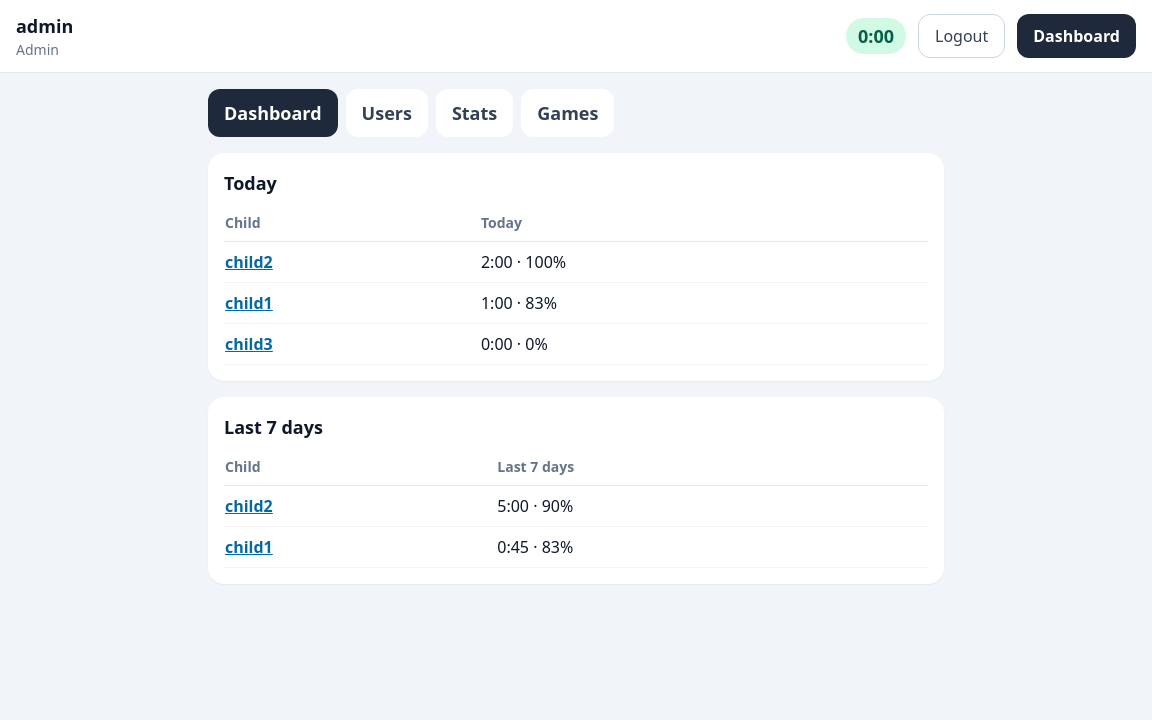
Test case: T13 — admin panel › T17 case 4: the admin stats tab shows earned time as a clock value
Click the button "Stats" at (475, 113), box 436,89 -> 513,137
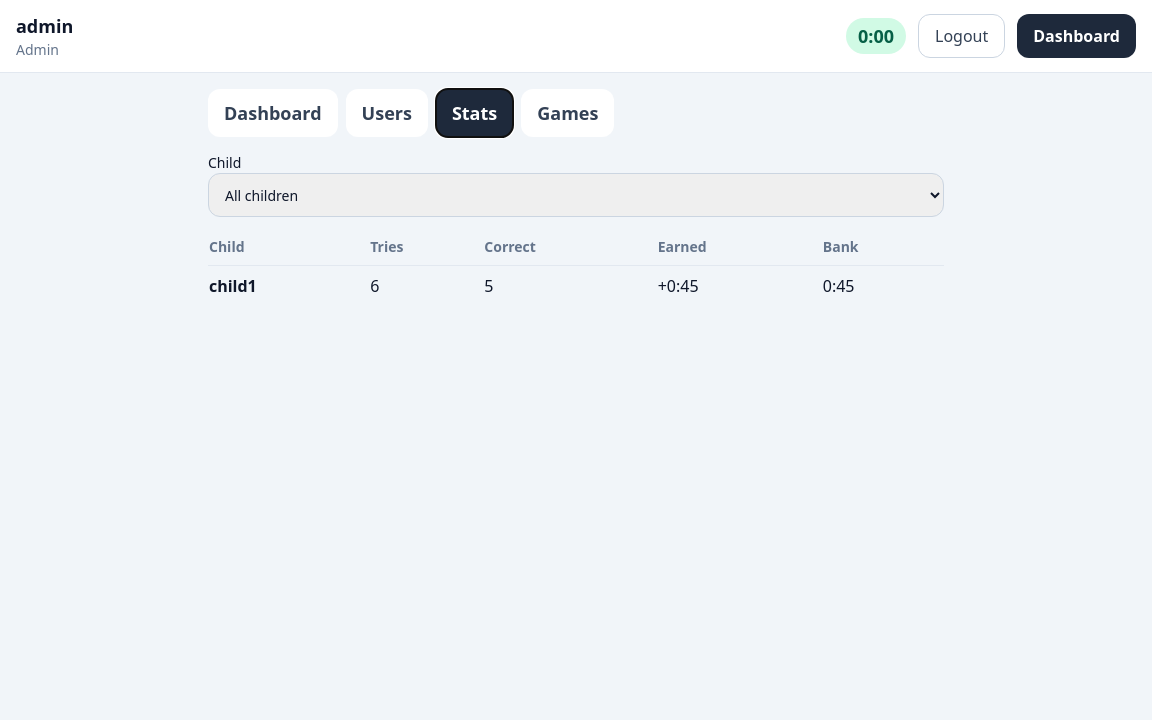
Expected: the row with test id "daily-row-child1" does not show "+45s", 208,266 -> 944,306
Result: the row with test id "daily-row-child1" shows "+0:45" at 208,266 -> 944,306
